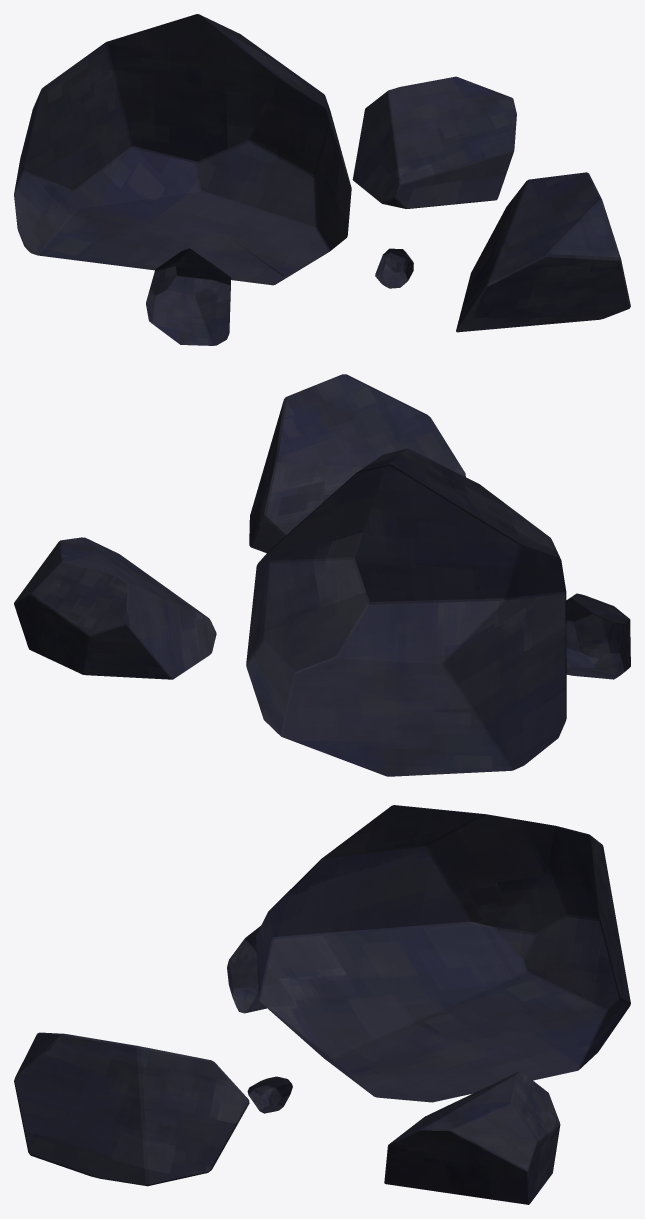
File: Pebble2.fbx
3 renders of one model, top to bottom at view 1: azimuth 30°, elevation 25°; view 2: azimuth 150°, elevation 25°; view 3: azimuth 270°, elevation 25°, orthographic. The views are drawn at different scales.
Visible parts, largest first — view 1: Cube.012, Cube.015, Cube.024, Cube.014, Cube.016; view 2: Cube.012, Cube.024, Cube.015, Cube.014; view 3: Cube.012, Cube.015, Cube.024, Cube.014, Cube.016.
Part boxes in pixels (<box>): Cube.012: <box>14,14,351,285</box>; Cube.015: <box>456,172,630,332</box>; Cube.024: <box>352,76,516,208</box>; Cube.014: <box>146,248,230,345</box>; Cube.016: <box>375,248,413,288</box>; Cube.012: <box>246,448,566,776</box>; Cube.024: <box>14,537,216,679</box>; Cube.015: <box>249,374,465,552</box>; Cube.014: <box>566,593,630,679</box>; Cube.012: <box>256,805,630,1102</box>; Cube.015: <box>14,1032,249,1186</box>; Cube.024: <box>384,1071,560,1204</box>; Cube.014: <box>227,926,266,1013</box>; Cube.016: <box>247,1076,292,1113</box>.
Bounding box in the file's own units: 287 × 130 × 288.
